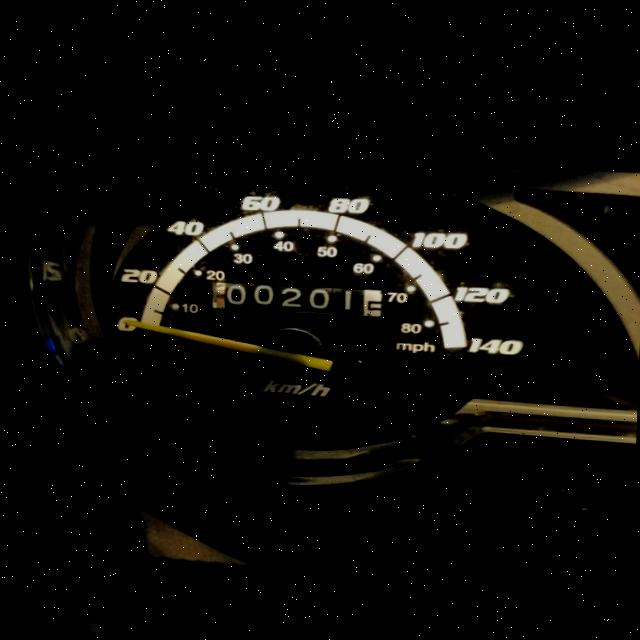odometer: (206, 276, 388, 322)
